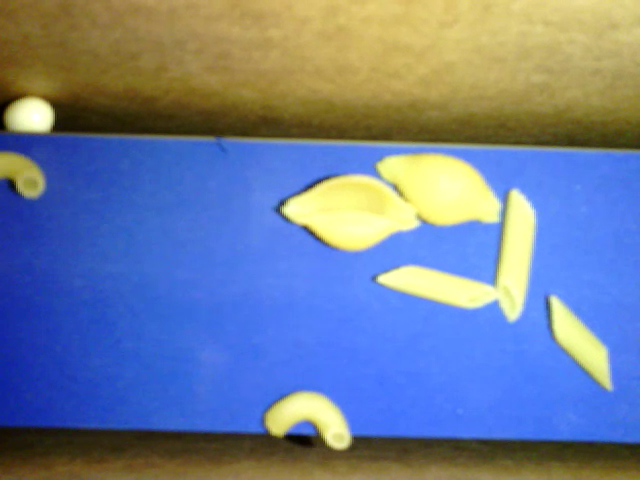elbow: (263, 390, 354, 451), (1, 151, 48, 200)
penne: (374, 261, 502, 311), (548, 295, 613, 391), (494, 188, 535, 323)
shell: (280, 172, 424, 253), (375, 153, 502, 230)
